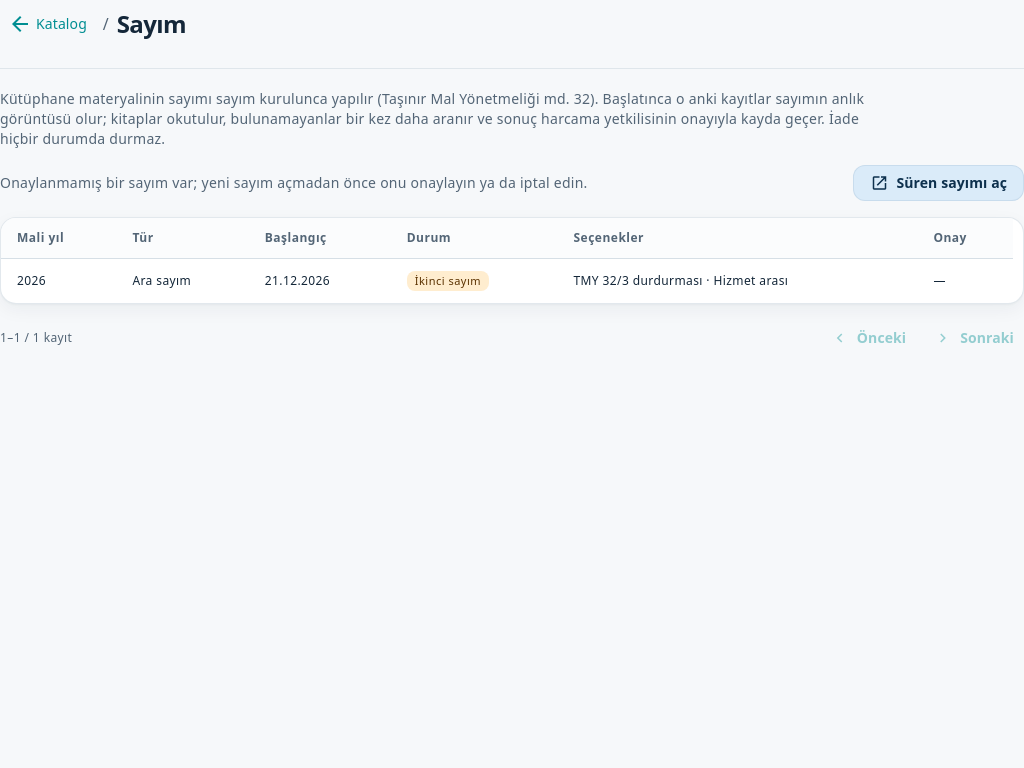
Sayım listesi › canlı sayım varken yeni sayım açılmaz; “Süren sayımı aç” onu açar
This screenshot has width=1024, height=768.
Check: the text "İkinci sayım" is shown, box [407,271,489,291]
Check: the text "Onaylanmamış bir sayım var" is shown, box [0,173,588,192]
Click the button "Süren sayımı aç" at (939, 183), box [853,165,1023,201]
(page scrolled)
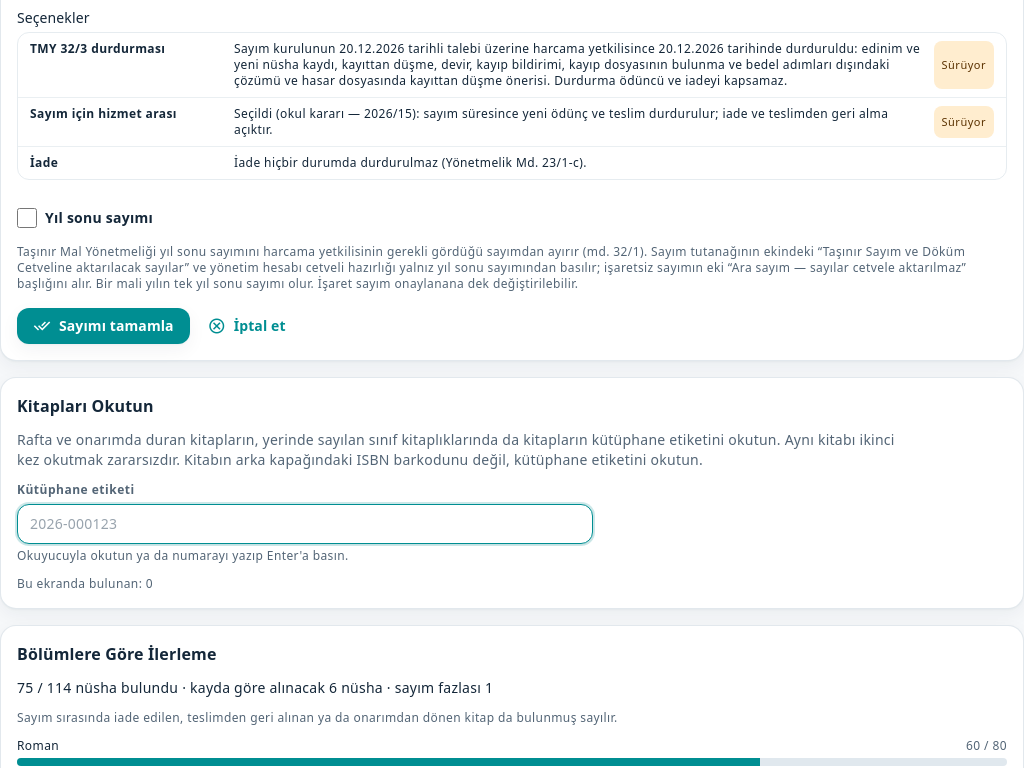
Check: the heading "Kitapları Okutun" is shown, box [17,395,154,417]
